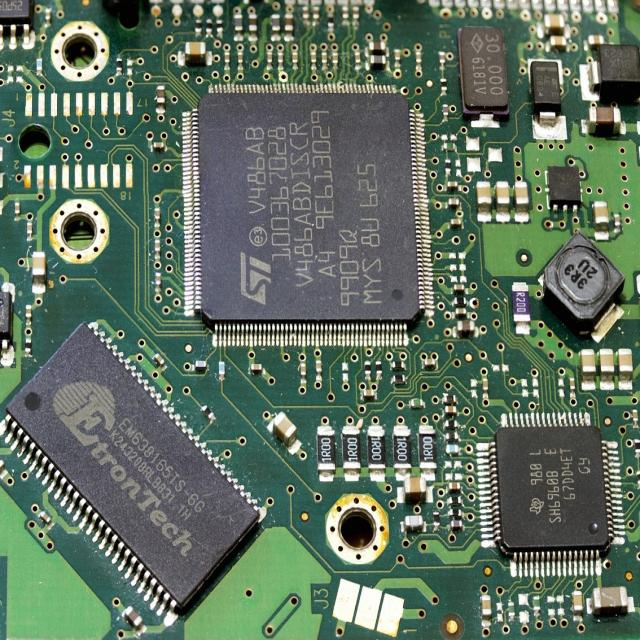pcb: (1, 0, 638, 638), (530, 58, 562, 119)
